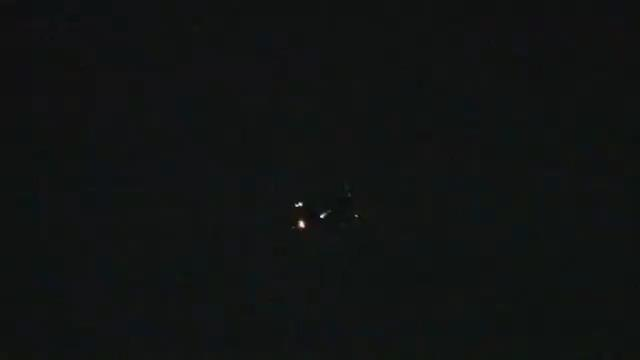Plane: (265, 190, 336, 245)
